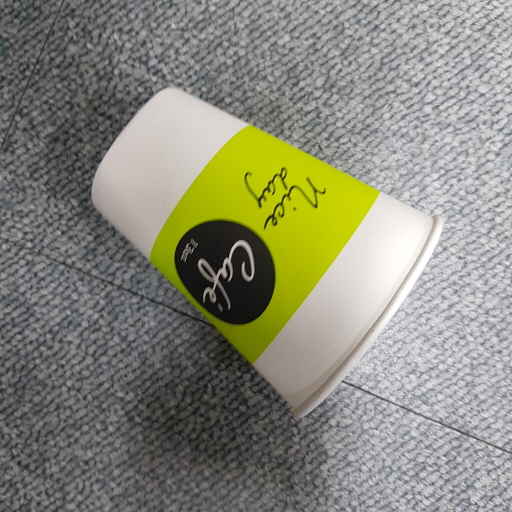Paper_1: (88, 85, 447, 422)
